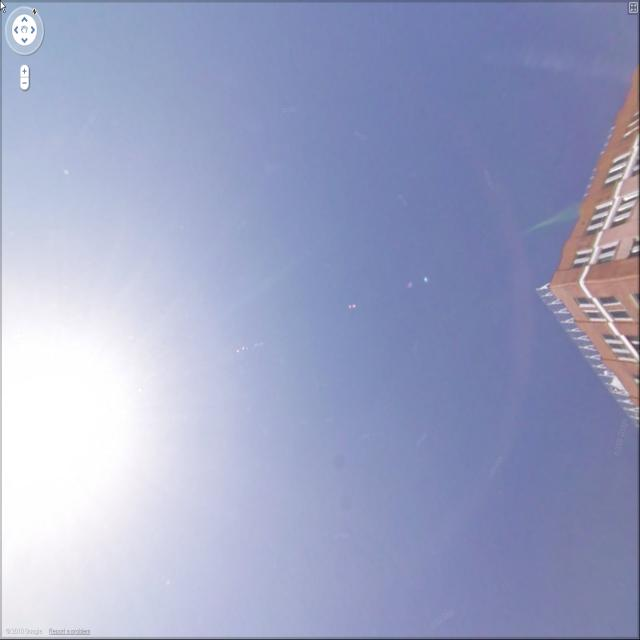b_1: (529, 44, 640, 430)
